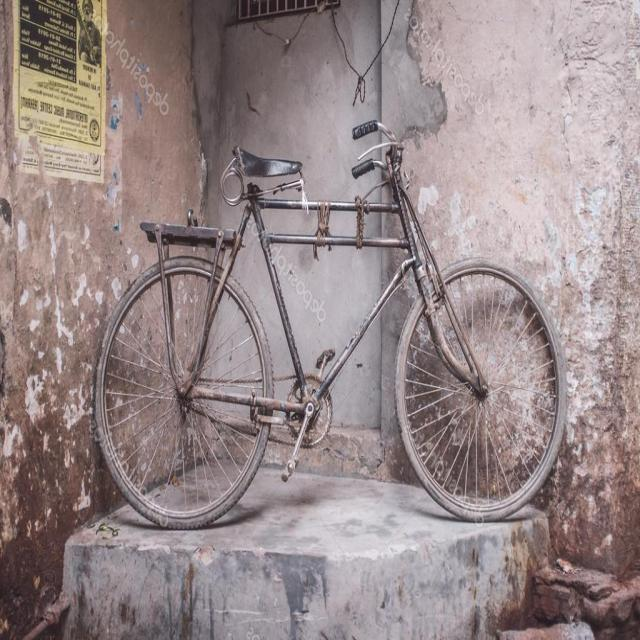bicycle: (96, 121, 566, 528)
